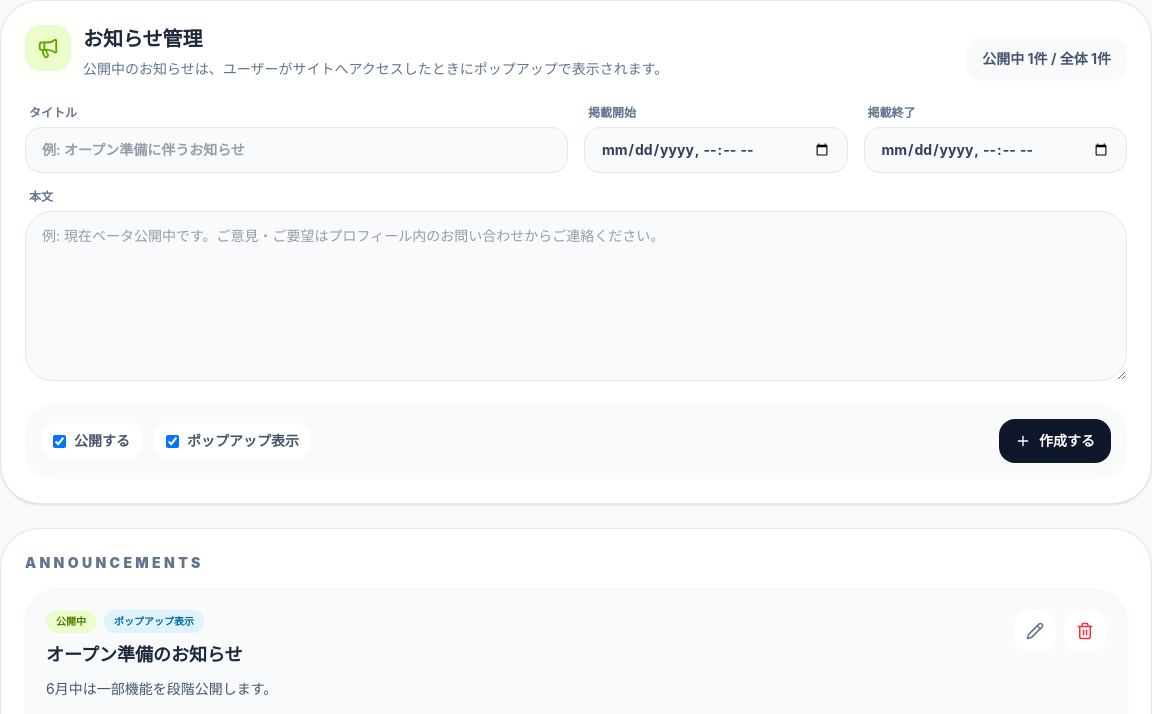
Scenario: AdminAnnouncementsPage › renders existing announcements and enters edit mode
Check: the heading "オープン準備のお知らせ" is shown, box [46,644,243,665]
Click the button titled "編集する" at point(1035, 631), box [1014,610,1056,652]
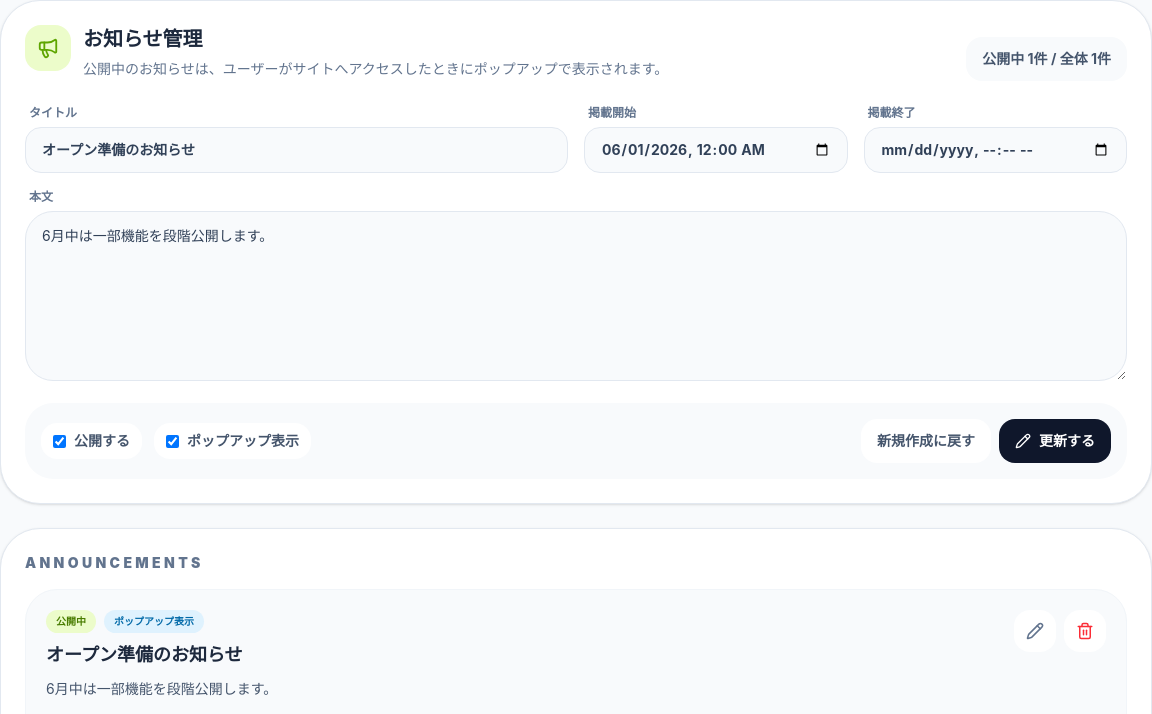
Check: the field showing "オープン準備のお知らせ" is shown, box [25,127,568,173]
Check: the button "更新する" is shown, box [999,419,1111,463]
